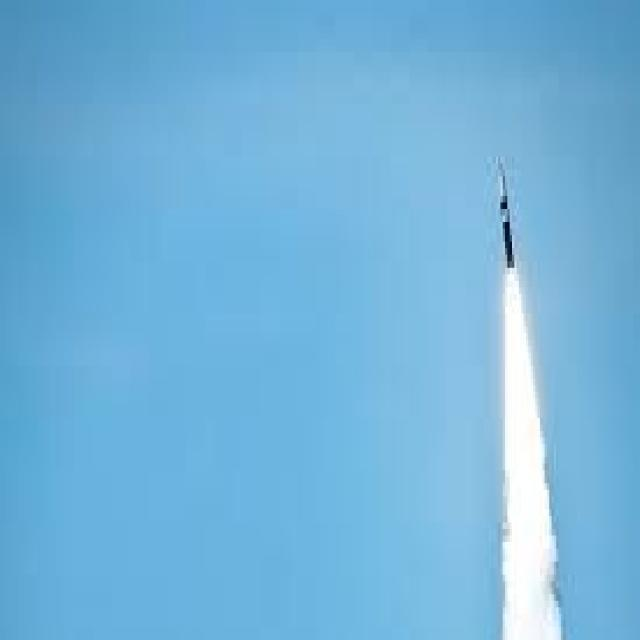missile: (491, 158, 534, 278)
